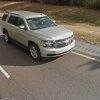Car: (1, 2, 78, 63)
